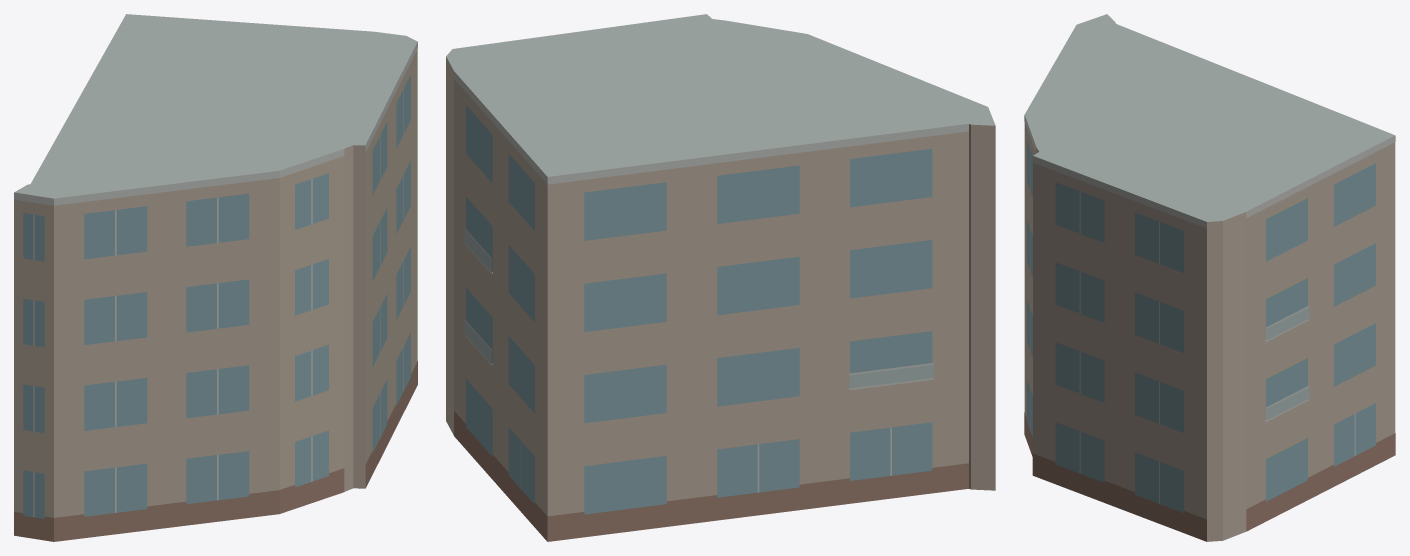
The model's file is survey-upis-32527384.glb.
3 views of the same model, side by side, from view 1: azimuth 30°, elevation 25°; view 2: azimuth 150°, elevation 25°; view 3: azimuth 270°, elevation 25° (orthographic). The views are drawn at different scales.
Visible parts, largest first — view 1: survey-upis-32527384.tmp; view 2: survey-upis-32527384.tmp; view 3: survey-upis-32527384.tmp.
Part boxes in pixels (x1,y1,x2,y2): survey-upis-32527384.tmp: (14, 14, 417, 541); survey-upis-32527384.tmp: (446, 14, 995, 541); survey-upis-32527384.tmp: (1024, 14, 1395, 541).
Bounding box in the file's own units: 16.32 × 11.7 × 12.31.
